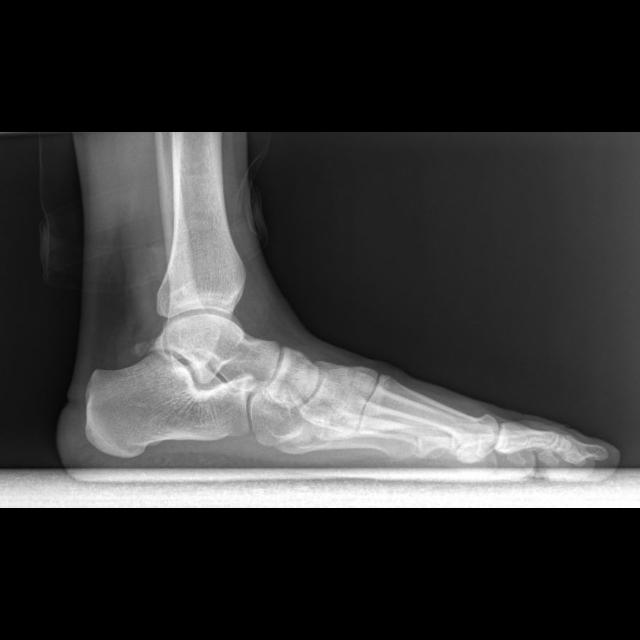a: (85, 352, 250, 459)
b: (261, 347, 320, 407)
c: (359, 374, 498, 446)
